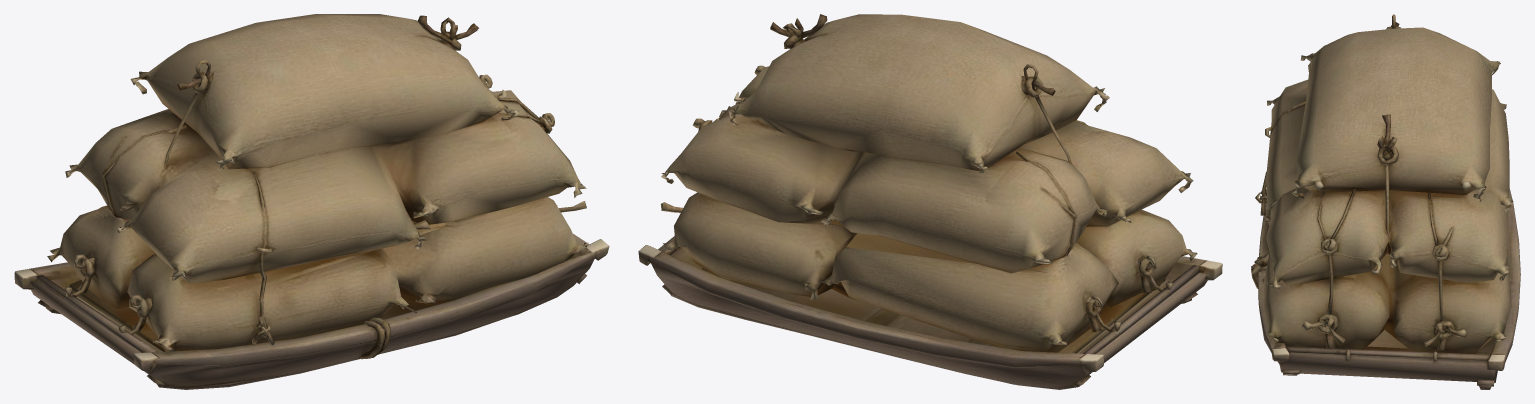
File: cargo.glb
3 views of the same model, side by side, from view 1: azimuth 30°, elevation 25°; view 2: azimuth 150°, elevation 25°; view 3: azimuth 270°, elevation 25° (orthographic). The views are drawn at different scales.
Visible parts, largest first — view 1: tripo_node_ad01d39c-673f-444b-b494-5327f1c7e445; view 2: tripo_node_ad01d39c-673f-444b-b494-5327f1c7e445; view 3: tripo_node_ad01d39c-673f-444b-b494-5327f1c7e445.
Part boxes in pixels (<box>): tripo_node_ad01d39c-673f-444b-b494-5327f1c7e445: <box>14,14,609,389</box>; tripo_node_ad01d39c-673f-444b-b494-5327f1c7e445: <box>638,14,1222,389</box>; tripo_node_ad01d39c-673f-444b-b494-5327f1c7e445: <box>1251,14,1520,389</box>.
Bounding box in the file's own units: 0.998 × 0.5762 × 0.5645.
Materials: 1 (1 with a texture image).
